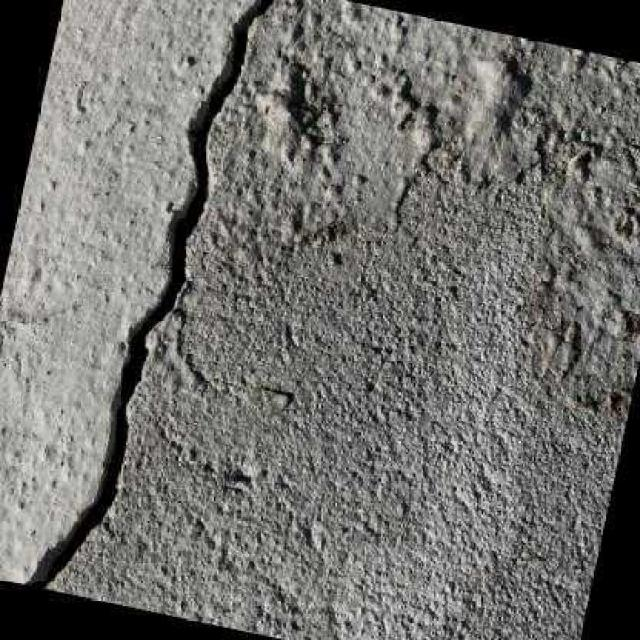D00: (20, 0, 273, 588)
